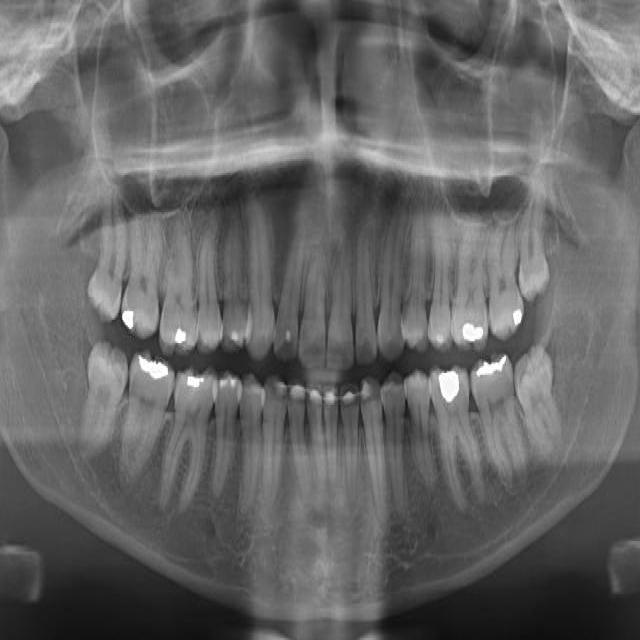dolgu: (128, 342, 174, 398), (473, 348, 514, 407), (428, 354, 466, 414), (452, 302, 492, 349), (498, 292, 529, 344), (178, 363, 211, 410), (166, 307, 196, 356), (118, 304, 150, 344)
